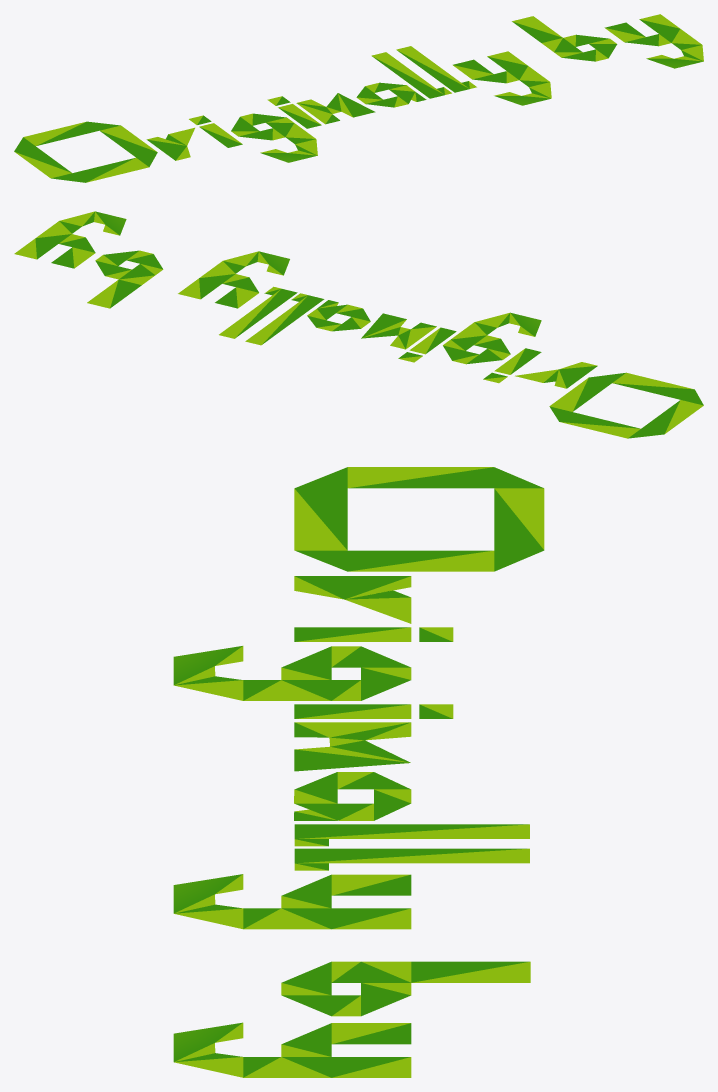
The model's file is Credit.dae.
The picture shows the model from 3 angles, top to bottom: view 1: azimuth 30°, elevation 25°; view 2: azimuth 150°, elevation 25°; view 3: azimuth 270°, elevation 25°; orthographic projection. The views are drawn at different scales.
Parts seen in each view (by area): view 1: Plane; view 2: Plane; view 3: Plane.
Part boxes in pixels (bbox=[...]): Plane: bbox=[14, 14, 703, 182]; Plane: bbox=[14, 211, 703, 438]; Plane: bbox=[173, 467, 544, 1077].
Bounding box in the file's own units: 18.08 × 4.64 × 0.
